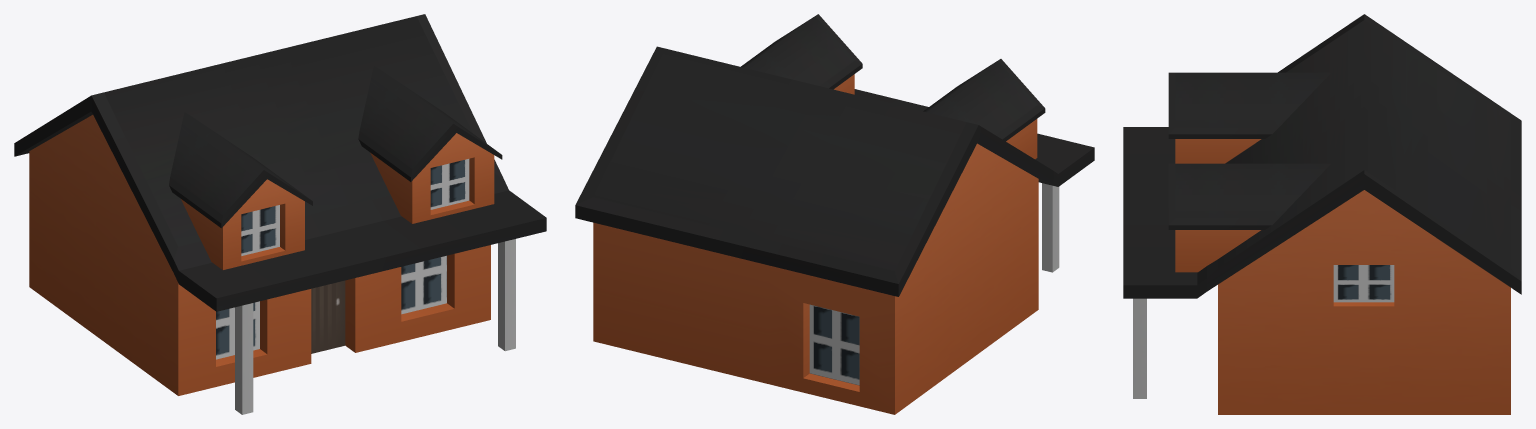
File: House_basic.FBX
The picture shows the model from 3 angles, left to right: view 1: azimuth 30°, elevation 25°; view 2: azimuth 150°, elevation 25°; view 3: azimuth 270°, elevation 25°; orthographic projection. The views are drawn at different scales.
Visible parts, largest first — view 1: Box007; view 2: Box007; view 3: Box007.
Part boxes in pixels (box(x1,y1,x2,y2)): Box007: box(14, 14, 546, 414); Box007: box(575, 14, 1094, 414); Box007: box(1123, 14, 1521, 414).
Bounding box in the file's own units: 478 × 336 × 496.
